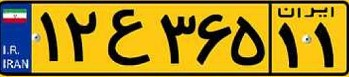character: (104, 7, 152, 68), (229, 7, 268, 69), (157, 11, 197, 69), (195, 6, 231, 69), (63, 7, 100, 65), (308, 21, 342, 70), (36, 9, 63, 66), (275, 21, 307, 69)
